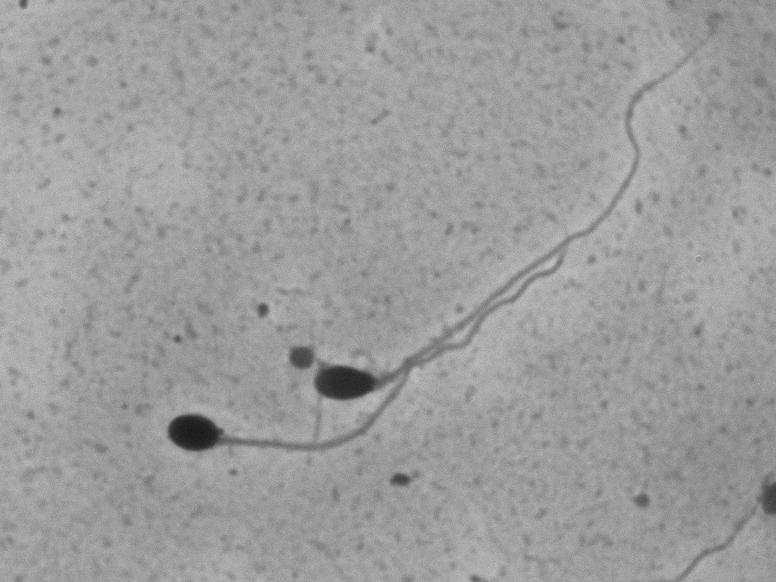Abnormal: (134, 405, 407, 499)
Normal: (287, 21, 722, 404)
